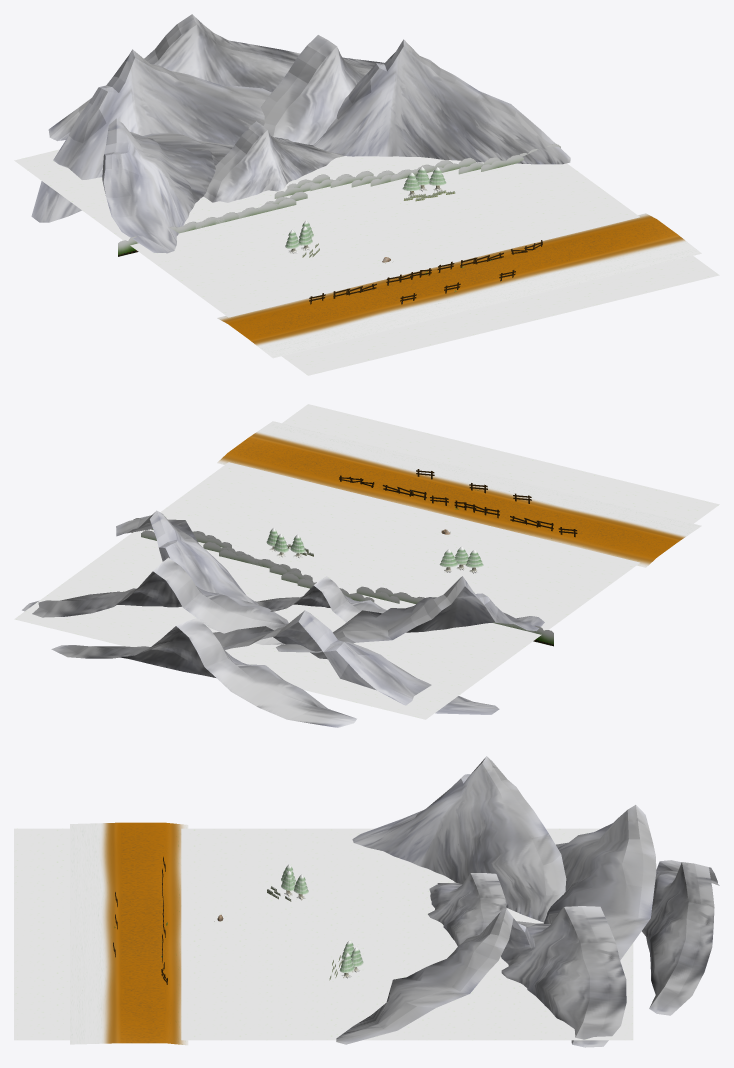
The model's file is 334_bg_roadD.fbx.
The picture shows the model from 3 angles, top to bottom: view 1: azimuth 30°, elevation 25°; view 2: azimuth 150°, elevation 25°; view 3: azimuth 270°, elevation 25°; orthographic projection. The views are drawn at different scales.
Visible parts, largest first — view 1: ground, bg_road_model:pPlane459, polySurface1, polySurface17, polySurface18, polySurface19, polySurface20, polySurface16; view 2: ground, bg_road_model:pPlane459, polySurface20, polySurface19, polySurface17, polySurface18, polySurface1, polySurface16; view 3: ground, bg_road_model:pPlane459, polySurface18, polySurface19, polySurface17, polySurface20, polySurface1, polySurface16.
Part boxes in pixels (bbox=[...]): ground: bbox=[14, 149, 719, 375]; bg_road_model:pPlane459: bbox=[217, 213, 701, 358]; polySurface1: bbox=[313, 39, 570, 164]; polySurface17: bbox=[31, 49, 271, 222]; polySurface18: bbox=[102, 118, 233, 253]; polySurface19: bbox=[260, 35, 384, 144]; polySurface20: bbox=[48, 14, 300, 141]; polySurface16: bbox=[203, 121, 343, 202]; ground: bbox=[14, 404, 719, 719]; bg_road_model:pPlane459: bbox=[217, 421, 701, 567]; polySurface20: bbox=[51, 618, 356, 727]; polySurface19: bbox=[22, 557, 288, 644]; polySurface17: bbox=[213, 610, 499, 714]; polySurface18: bbox=[276, 576, 544, 652]; polySurface1: bbox=[116, 510, 258, 604]; polySurface16: bbox=[255, 576, 386, 622]; ground: bbox=[14, 828, 633, 1040]; bg_road_model:pPlane459: bbox=[70, 822, 188, 1045]; polySurface18: bbox=[352, 756, 566, 922]; polySurface19: bbox=[501, 906, 626, 1047]; polySurface17: bbox=[544, 805, 656, 960]; polySurface20: bbox=[642, 860, 719, 1015]; polySurface1: bbox=[336, 908, 535, 1044]; polySurface16: bbox=[428, 873, 506, 945].
Bounding box in the file's own units: 5571 × 1254 × 7272.
